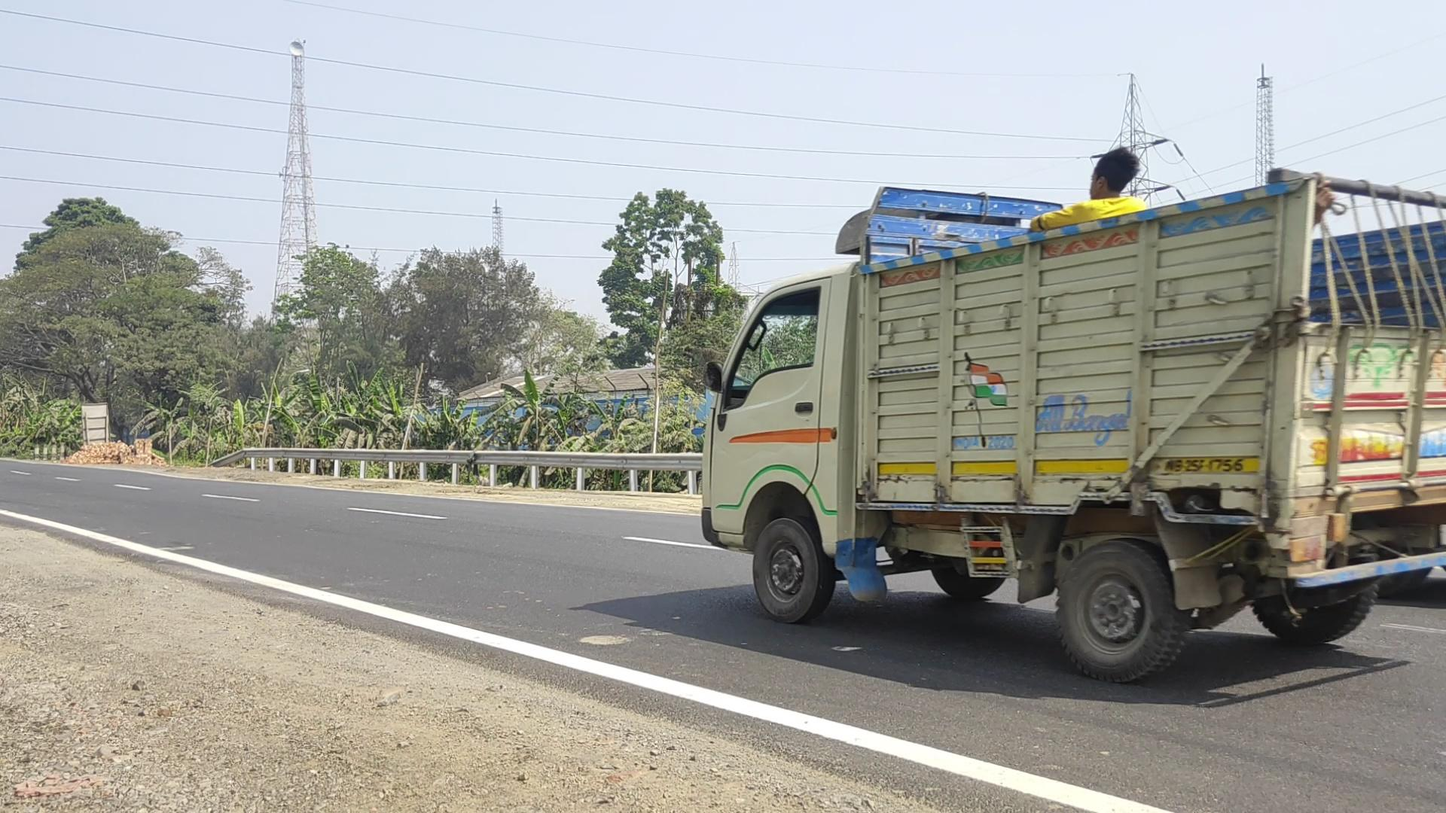van: (702, 146, 1446, 685)
